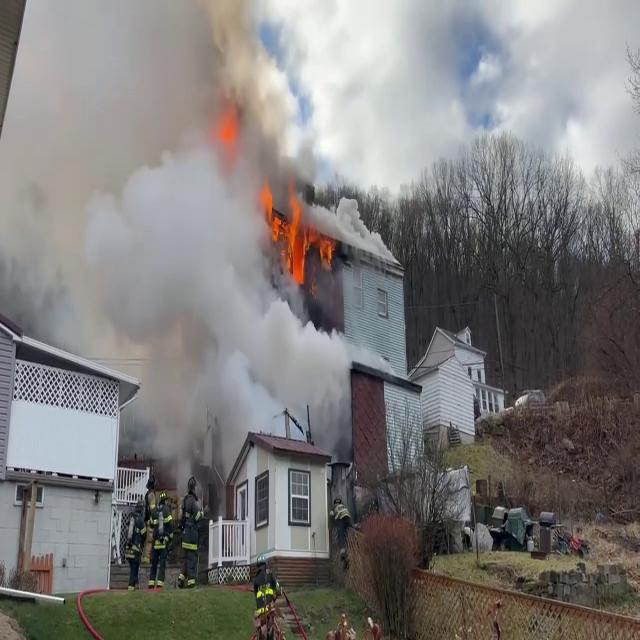Fire: (262, 180, 336, 282)
Smoke: (1, 0, 347, 472)
